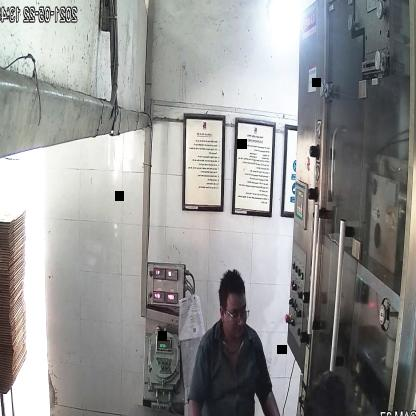goggles: (218, 303, 253, 325)
